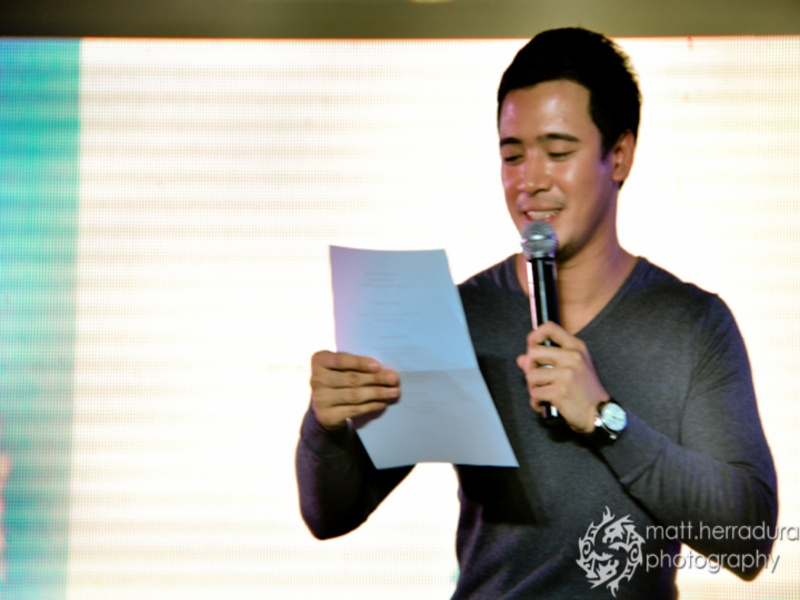person: (296, 26, 780, 600)
